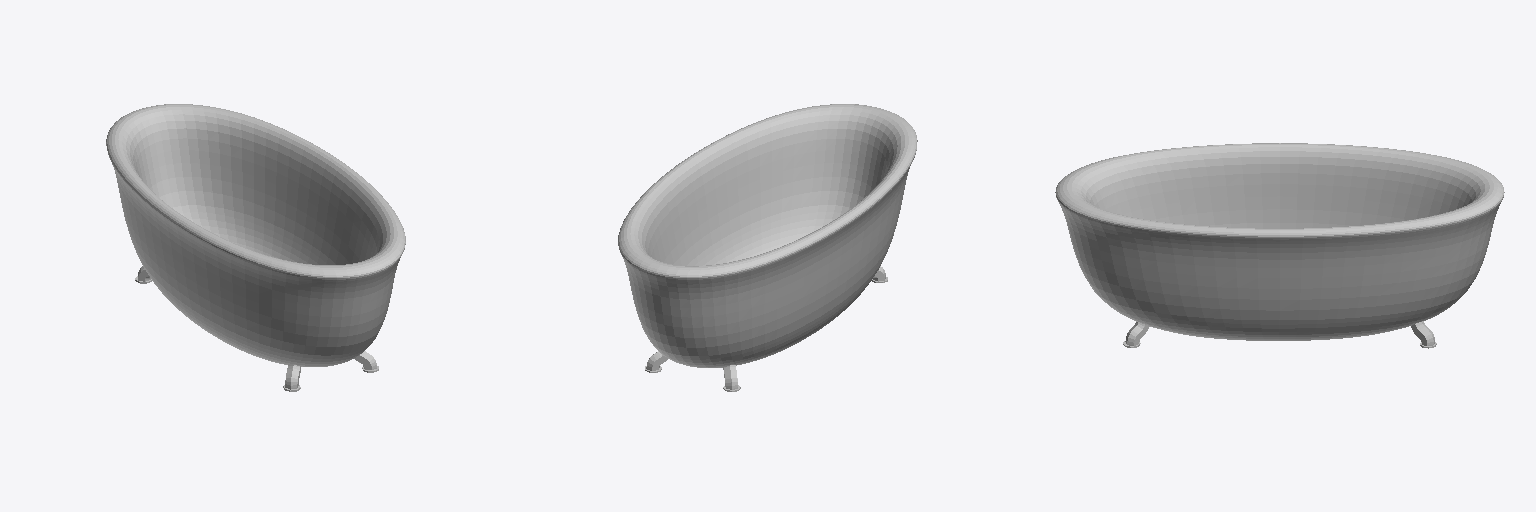
Rendered from bath.obj.
The picture shows the model from 3 angles: view 1: azimuth 30°, elevation 25°; view 2: azimuth 150°, elevation 25°; view 3: azimuth 270°, elevation 25°; orthographic projection.
Parts seen in each view (by area): view 1: Baignore; view 2: Baignore; view 3: Baignore.
Part boxes in pixels (bbox=[...]): Baignore: bbox=[106, 104, 405, 366]; Baignore: bbox=[618, 104, 917, 367]; Baignore: bbox=[1055, 143, 1504, 340].
Bounding box in the file's own units: 1.5 × 1.06 × 3.11.